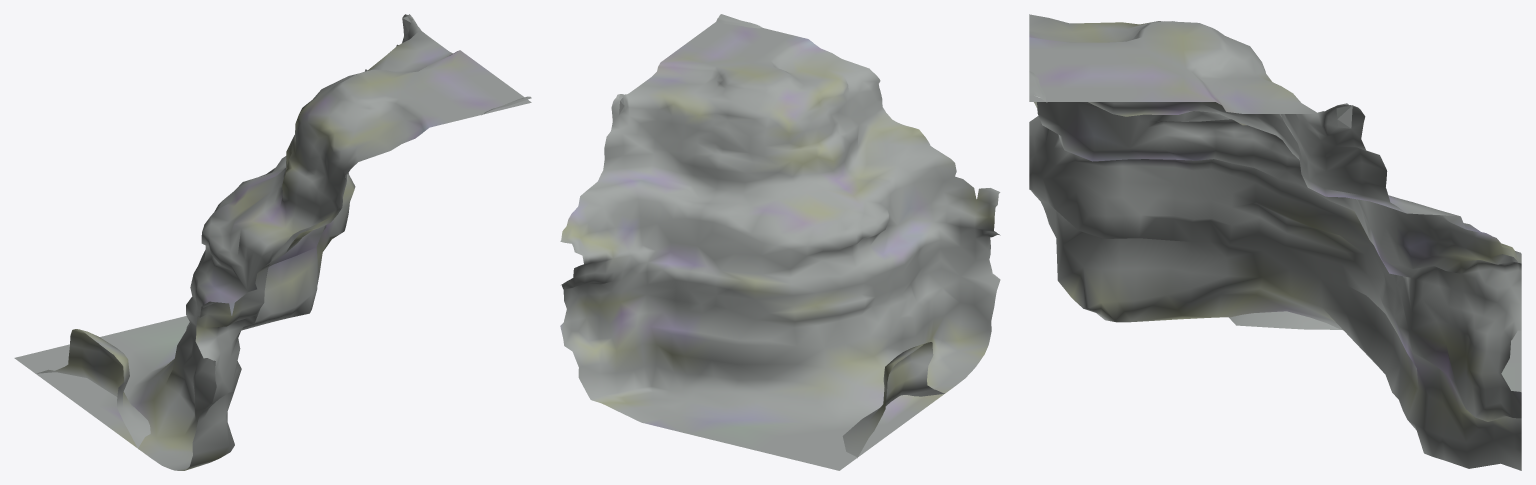
3 renders of one model, left to right at view 1: azimuth 30°, elevation 25°; view 2: azimuth 150°, elevation 25°; view 3: azimuth 270°, elevation 25°, orthographic. The views are drawn at different scales.
Visible parts, largest first — view 1: G:\FFXIV-MapTools\exports\y6f2\bg\ex5\02_ykt_y6\fld\y6f2\bgp (×4); view 2: G:\FFXIV-MapTools\exports\y6f2\bg\ex5\02_ykt_y6\fld\y6f2\bgp (×5); view 3: G:\FFXIV-MapTools\exports\y6f2\bg\ex5\02_ykt_y6\fld\y6f2\bgp (×5).
Boxes of the visible parts, x1,y1,x2,y2 form: G:\FFXIV-MapTools\exports\y6f2\bg\ex5\02_ykt_y6\fld\y6f2\bgp (×4): (14,14,531,470); G:\FFXIV-MapTools\exports\y6f2\bg\ex5\02_ykt_y6\fld\y6f2\bgp (×5): (560,22,1000,470); G:\FFXIV-MapTools\exports\y6f2\bg\ex5\02_ykt_y6\fld\y6f2\bgp (×5): (1029,14,1521,470).
Bounding box in the file's own units: 128 × 119 × 128.
